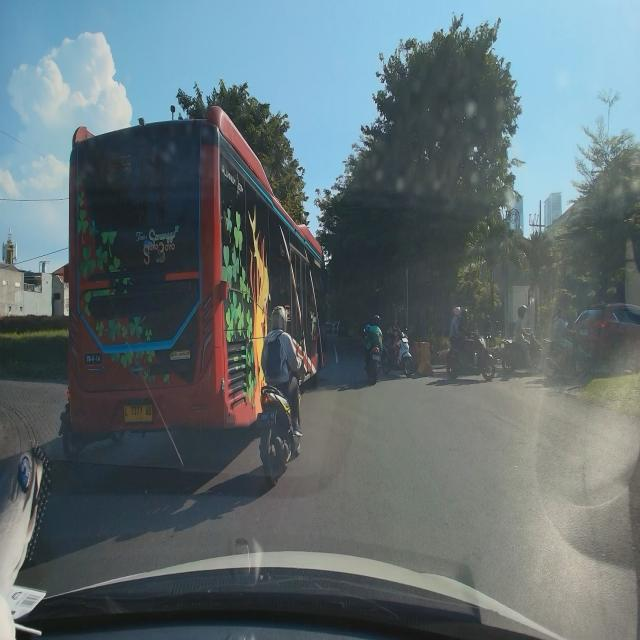bus: (68, 106, 328, 436)
car: (571, 299, 640, 375)
license-plate: (123, 402, 153, 423), (579, 327, 589, 337)
